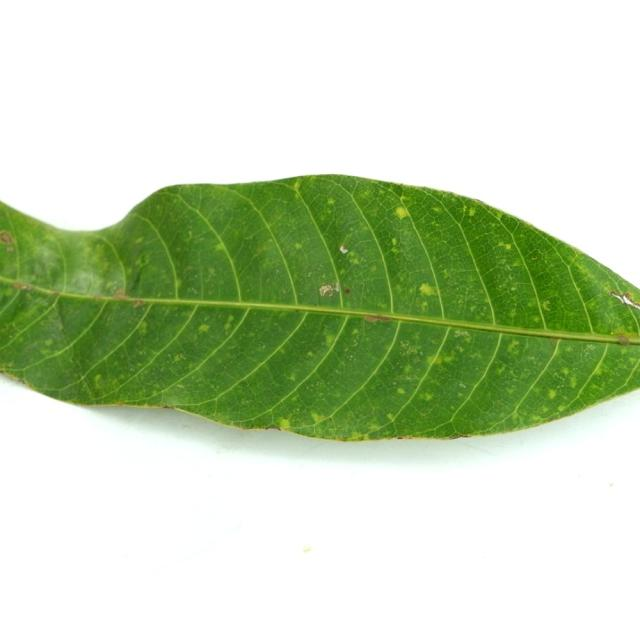Mango: (0, 176, 639, 440)
Powdery_Mildew: (414, 277, 447, 306), (428, 349, 460, 368), (397, 338, 422, 357), (0, 231, 17, 251), (387, 206, 412, 219), (573, 262, 590, 277), (506, 341, 522, 356), (426, 354, 442, 366), (347, 252, 361, 265), (324, 332, 336, 347), (223, 316, 235, 331), (135, 255, 148, 268), (617, 334, 631, 346), (310, 412, 325, 423), (279, 418, 291, 430), (454, 329, 470, 338), (402, 364, 414, 375), (138, 320, 148, 333), (198, 324, 210, 334), (568, 375, 578, 387), (214, 242, 227, 251), (368, 422, 381, 431), (349, 431, 363, 439), (541, 300, 551, 311), (286, 372, 297, 382), (495, 364, 506, 374), (586, 300, 597, 310), (547, 389, 557, 399), (293, 180, 302, 191), (422, 392, 433, 401), (467, 206, 476, 216), (560, 366, 569, 375), (495, 211, 504, 220), (531, 315, 541, 323), (557, 404, 567, 412), (523, 220, 534, 227), (294, 242, 303, 250), (391, 246, 400, 254), (386, 413, 395, 421), (174, 354, 183, 362), (338, 268, 347, 276), (432, 206, 442, 213), (531, 415, 541, 422), (420, 301, 428, 309), (208, 267, 216, 275), (400, 195, 409, 202), (396, 387, 405, 394), (44, 339, 53, 346), (351, 328, 360, 335), (186, 230, 193, 239), (327, 198, 335, 205), (95, 374, 102, 382), (395, 284, 402, 292), (135, 237, 143, 244), (508, 311, 516, 318), (391, 237, 397, 246), (472, 199, 482, 204), (370, 265, 377, 272), (504, 244, 512, 250), (530, 254, 538, 260), (306, 351, 313, 357), (458, 391, 465, 397), (344, 288, 351, 294), (511, 286, 517, 291)
